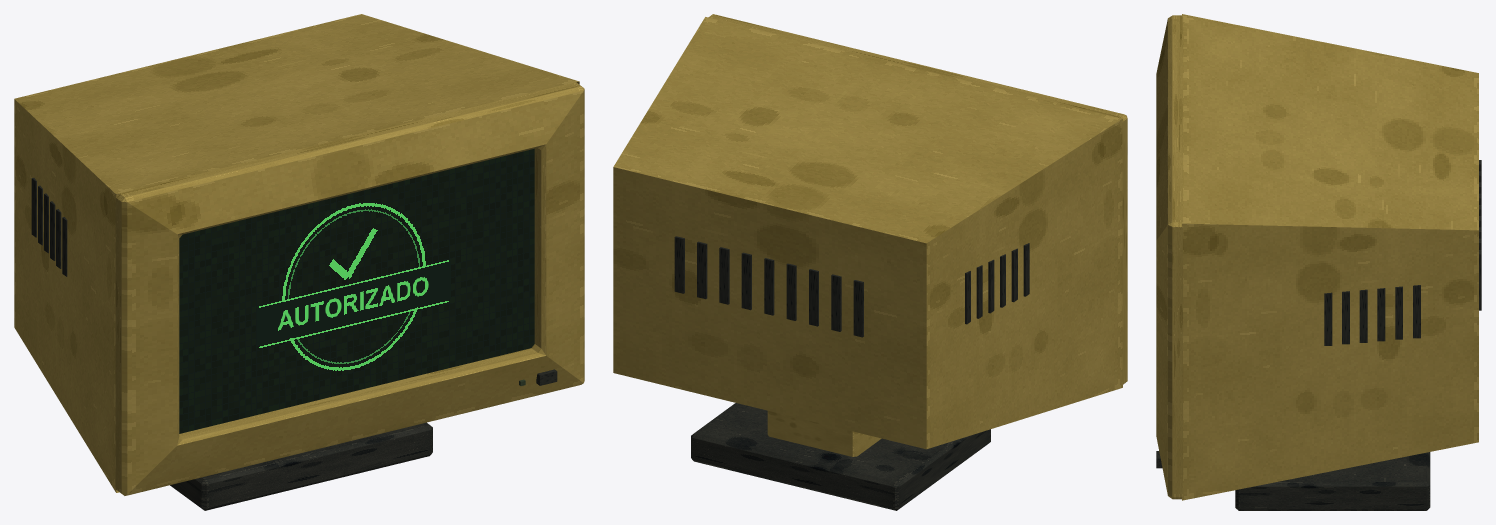
Rendered from retro_monitor.glb.
3 views of the same model, side by side, from view 1: azimuth 30°, elevation 25°; view 2: azimuth 150°, elevation 25°; view 3: azimuth 270°, elevation 25° (orthographic). The views are drawn at different scales.
Parts seen in each view (by area): view 1: retro_monitor; view 2: retro_monitor; view 3: retro_monitor.
Part boxes in pixels (bbox=[...]): retro_monitor: bbox=[14, 14, 584, 510]; retro_monitor: bbox=[613, 14, 1127, 510]; retro_monitor: bbox=[1156, 14, 1481, 510].
Size of the model in its own units: 0.56 by 0.425 by 0.367.
5 materials, 4 textured.
